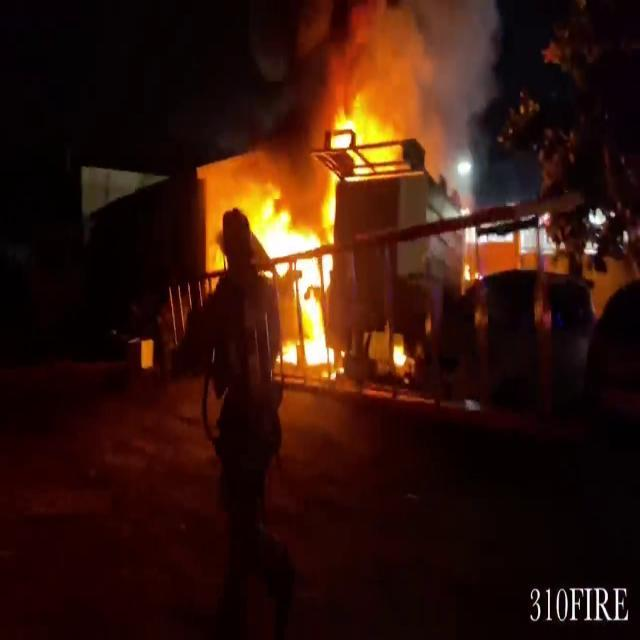Fire: (253, 183, 344, 380)
Smoke: (263, 0, 515, 148)
